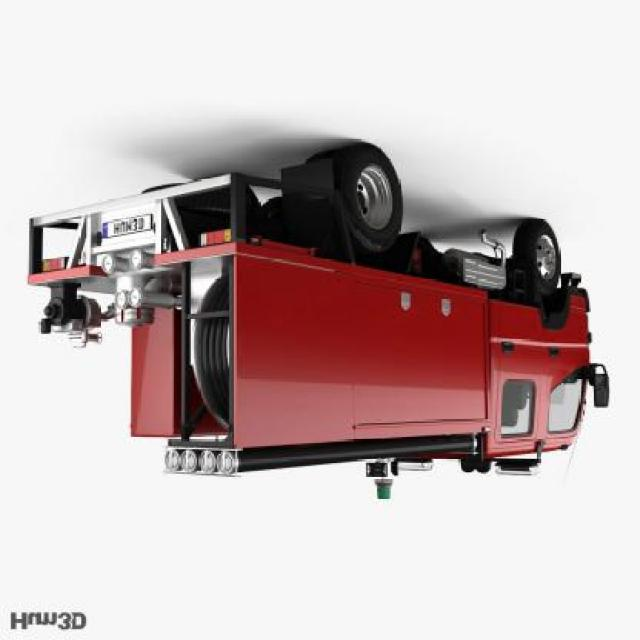truck: (28, 141, 609, 504)
